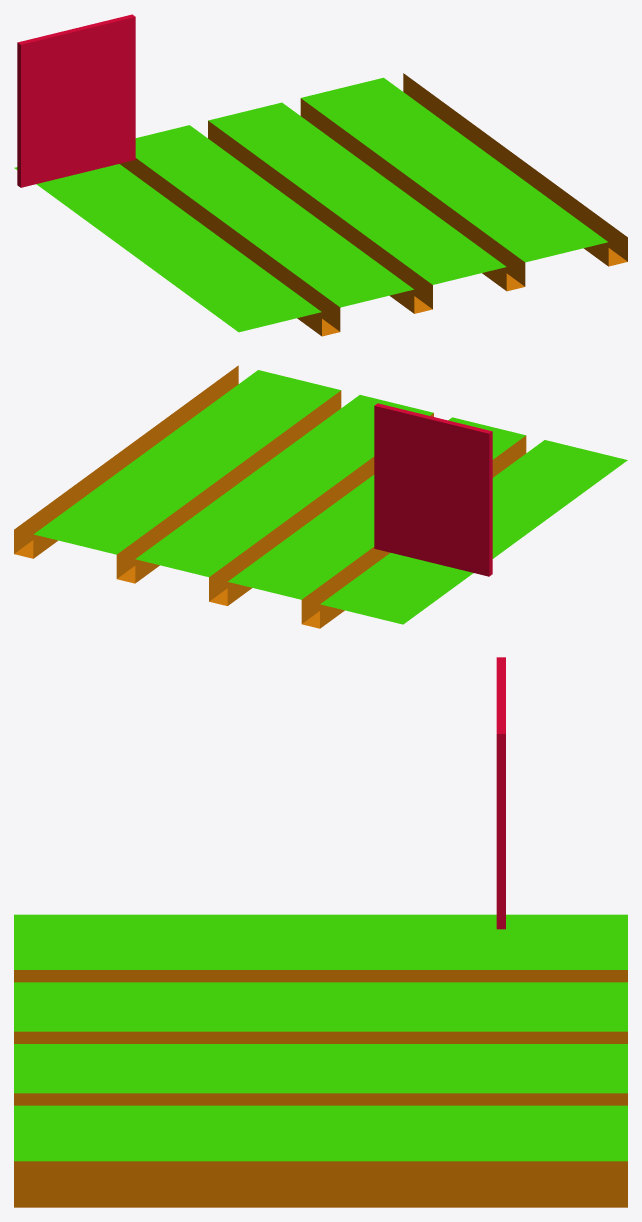
File: Unit_Ceiling.fbx
The picture shows the model from 3 angles, top to bottom: view 1: azimuth 30°, elevation 25°; view 2: azimuth 150°, elevation 25°; view 3: azimuth 270°, elevation 25°; orthographic projection. The views are drawn at different scales.
Parts seen in each view (by area): view 1: Unit_Ceiling, pCube19; view 2: Unit_Ceiling, pCube19; view 3: Unit_Ceiling, pCube19.
Boxes of the visible parts, <box> form: Unit_Ceiling: <box>14,73,627,336</box>; pCube19: <box>17,14,135,187</box>; Unit_Ceiling: <box>14,365,627,628</box>; pCube19: <box>374,403,492,576</box>; Unit_Ceiling: <box>14,914,627,1207</box>; pCube19: <box>496,657,505,929</box>.
Bounding box in the file's own units: 2.21 × 0.9459 × 2.
